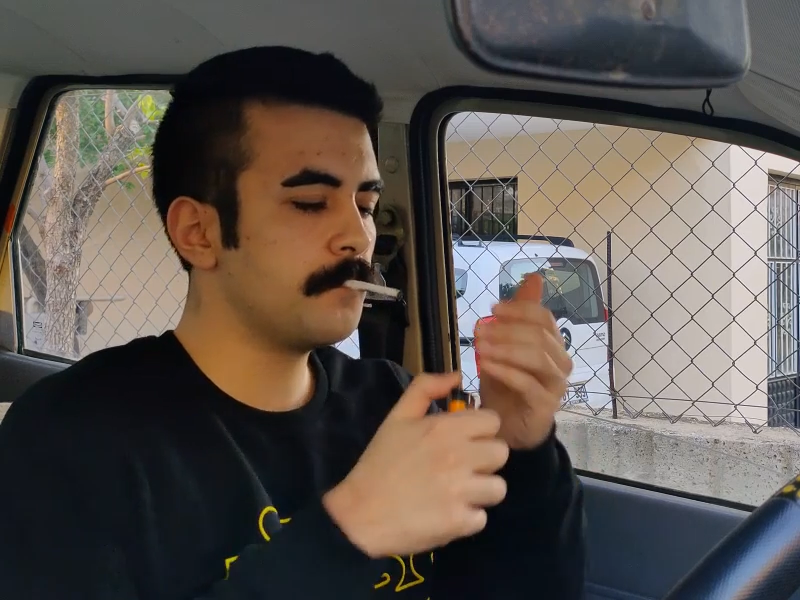sigara: (342, 278, 406, 303)
